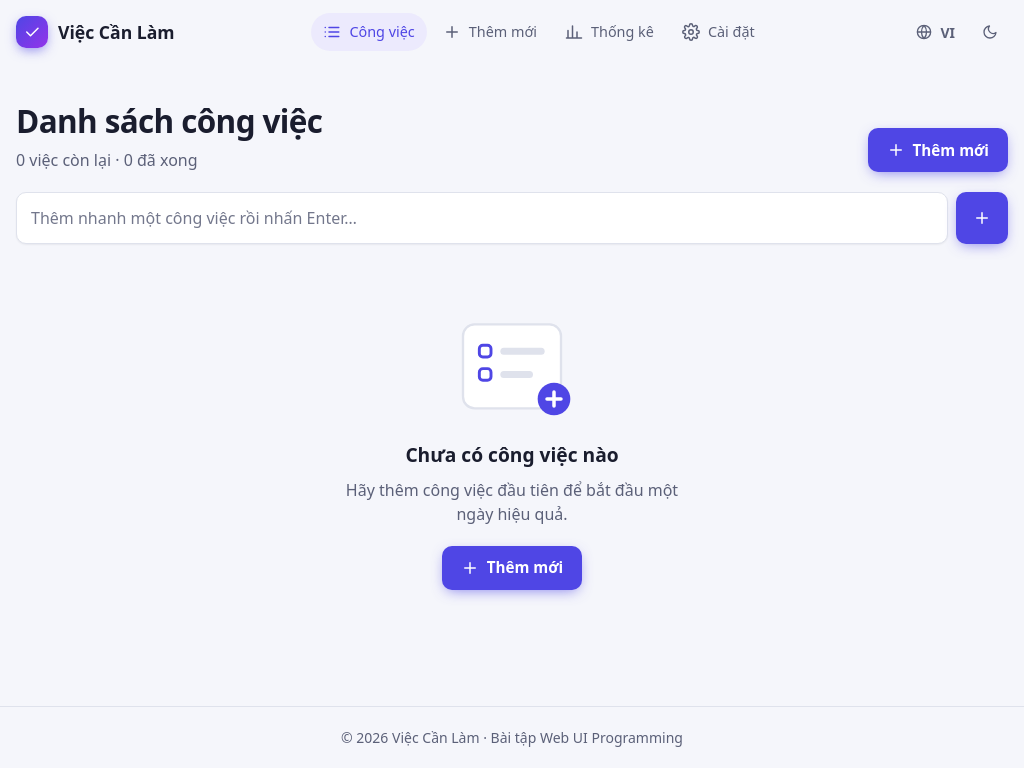
Test: Todo App (UI) › báo lỗi validation khi thêm nhanh tiêu đề quá ngắn
Step 1. Type "ab" into the field named "Thêm nhanh công việc" → (482, 218), box top-left (16, 192), bottom-right (948, 244)
Then press Enter
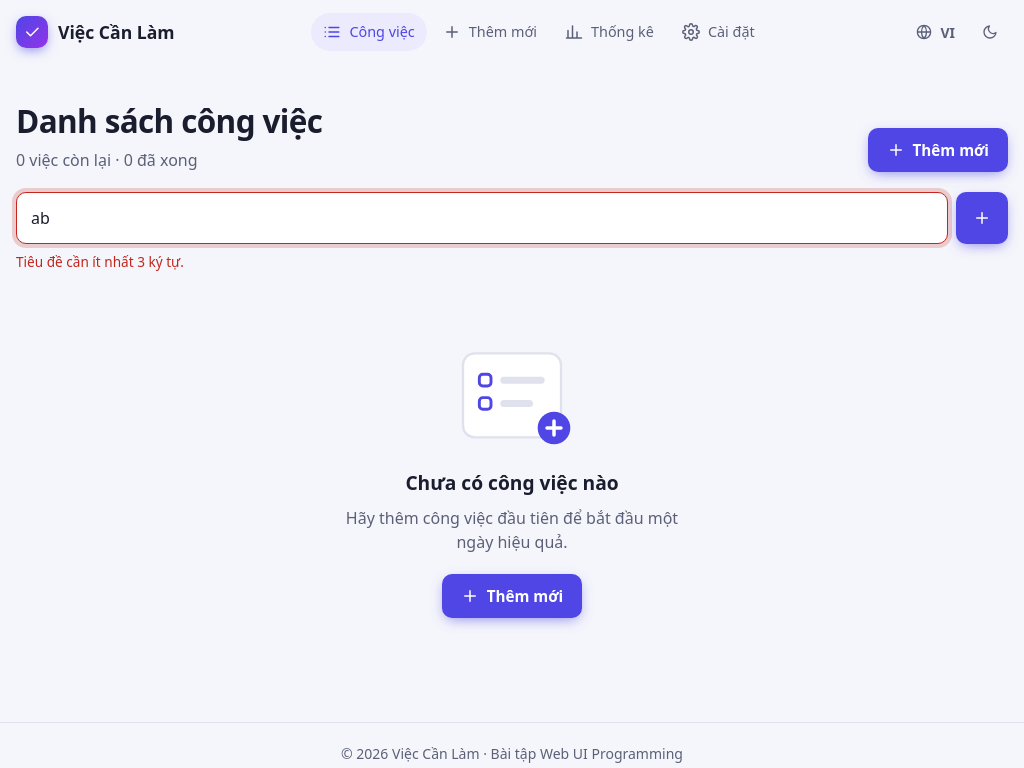
expect the message shows "ít nhất 3 ký tự": met, box top-left (16, 252), bottom-right (184, 271)
